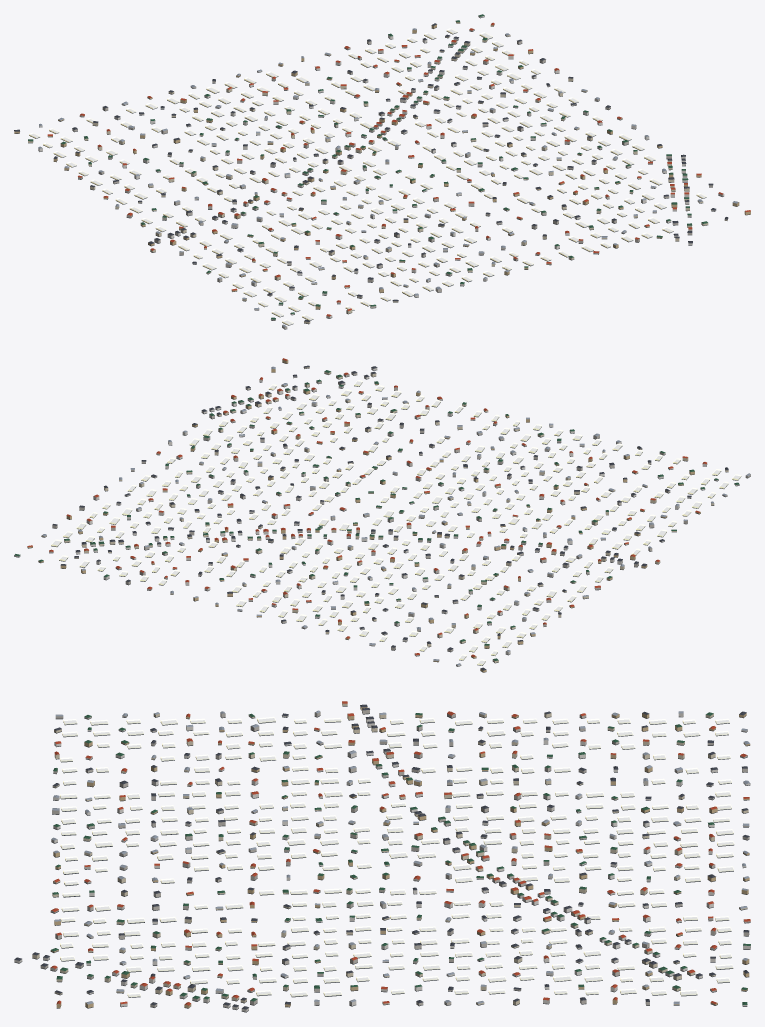
Rendered from buildings_T_E10_S03.glb.
3 renders of one model, top to bottom at view 1: azimuth 30°, elevation 25°; view 2: azimuth 150°, elevation 25°; view 3: azimuth 270°, elevation 25°, orthographic. The views are drawn at different scales.
Parts seen in each view (by area): view 1: T_E10_S03_roofs_agri_greenhouse_arch, T_E10_S03_slope_seating_foundations, T_E10_S03_walls_wall_pastel_sand_gray, T_E10_S03_walls_wall_modern_warm_white, T_E10_S03_walls_wall_dalat_cream_stucco, T_E10_S03_roofs_roof_slate_French_villa_hip, T_E10_S03_walls_wall_french_ochre_villa, T_E10_S03_roofs_roof_pine_green_hip, T_E10_S03_roofs_roof_terracotta_gable, T_E10_S03_roofs_roof_zinc_silver_gable; view 2: T_E10_S03_roofs_agri_greenhouse_arch, T_E10_S03_slope_seating_foundations, T_E10_S03_walls_wall_modern_warm_white, T_E10_S03_walls_wall_pastel_sand_gray, T_E10_S03_walls_wall_dalat_cream_stucco, T_E10_S03_roofs_roof_slate_French_villa_hip, T_E10_S03_walls_wall_french_ochre_villa, T_E10_S03_roofs_roof_pine_green_hip, T_E10_S03_roofs_roof_terracotta_gable, T_E10_S03_roofs_roof_zinc_silver_gable; view 3: T_E10_S03_roofs_agri_greenhouse_arch, T_E10_S03_slope_seating_foundations, T_E10_S03_walls_wall_pastel_sand_gray, T_E10_S03_walls_wall_modern_warm_white, T_E10_S03_walls_wall_dalat_cream_stucco, T_E10_S03_roofs_roof_slate_French_villa_hip, T_E10_S03_walls_wall_french_ochre_villa, T_E10_S03_roofs_roof_pine_green_hip, T_E10_S03_roofs_roof_terracotta_gable, T_E10_S03_roofs_roof_zinc_silver_gable.
Part boxes in pixels (x1,y1,x2,y2): T_E10_S03_roofs_agri_greenhouse_arch: (29,28,706,325); T_E10_S03_slope_seating_foundations: (14,16,750,329); T_E10_S03_walls_wall_pastel_sand_gray: (72,29,712,328); T_E10_S03_walls_wall_modern_warm_white: (38,15,724,318); T_E10_S03_walls_wall_dalat_cream_stucco: (28,34,727,323); T_E10_S03_roofs_roof_slate_French_villa_hip: (14,23,728,321); T_E10_S03_walls_wall_french_ochre_villa: (14,21,750,309); T_E10_S03_roofs_roof_pine_green_hip: (28,14,707,319); T_E10_S03_roofs_roof_terracotta_gable: (47,22,750,316); T_E10_S03_roofs_roof_zinc_silver_gable: (38,28,738,327); T_E10_S03_roofs_agri_greenhouse_arch: (51,380,741,665); T_E10_S03_slope_seating_foundations: (14,362,750,672); T_E10_S03_walls_wall_modern_warm_white: (14,367,718,666); T_E10_S03_walls_wall_pastel_sand_gray: (49,372,750,655); T_E10_S03_walls_wall_dalat_cream_stucco: (41,367,728,662); T_E10_S03_roofs_roof_slate_French_villa_hip: (52,365,728,670); T_E10_S03_walls_wall_french_ochre_villa: (27,359,700,672); T_E10_S03_roofs_roof_pine_green_hip: (14,370,739,660); T_E10_S03_roofs_roof_terracotta_gable: (27,358,706,657); T_E10_S03_roofs_roof_zinc_silver_gable: (42,366,750,665); T_E10_S03_roofs_agri_greenhouse_arch: (60,716,734,997); T_E10_S03_slope_seating_foundations: (14,706,750,1012); T_E10_S03_walls_wall_pastel_sand_gray: (40,709,750,1007); T_E10_S03_walls_wall_modern_warm_white: (14,713,750,1011); T_E10_S03_walls_wall_dalat_cream_stucco: (32,702,748,1005); T_E10_S03_roofs_roof_slate_French_villa_hip: (14,704,749,1009); T_E10_S03_walls_wall_french_ochre_villa: (50,707,750,1008); T_E10_S03_roofs_roof_pine_green_hip: (51,712,750,1005); T_E10_S03_roofs_roof_terracotta_gable: (50,701,750,1005); T_E10_S03_roofs_roof_zinc_silver_gable: (51,710,750,1004).
Size of the model in its own units: 1844 by 29.91 by 1846.
